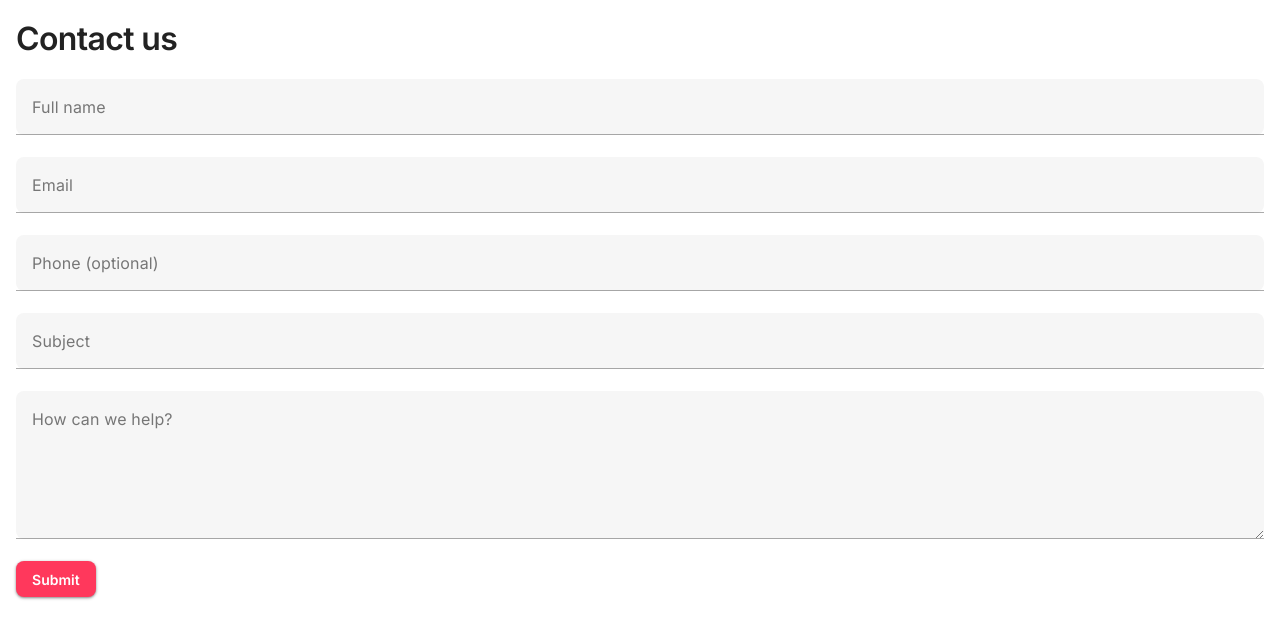
WidgetEmbedView › submits the form and shows the confirmation with the reference
This screenshot has width=1280, height=617.
Type "Jane Customer" into the field labelled "Full name" at (640, 107), box [16,79,1264,135]
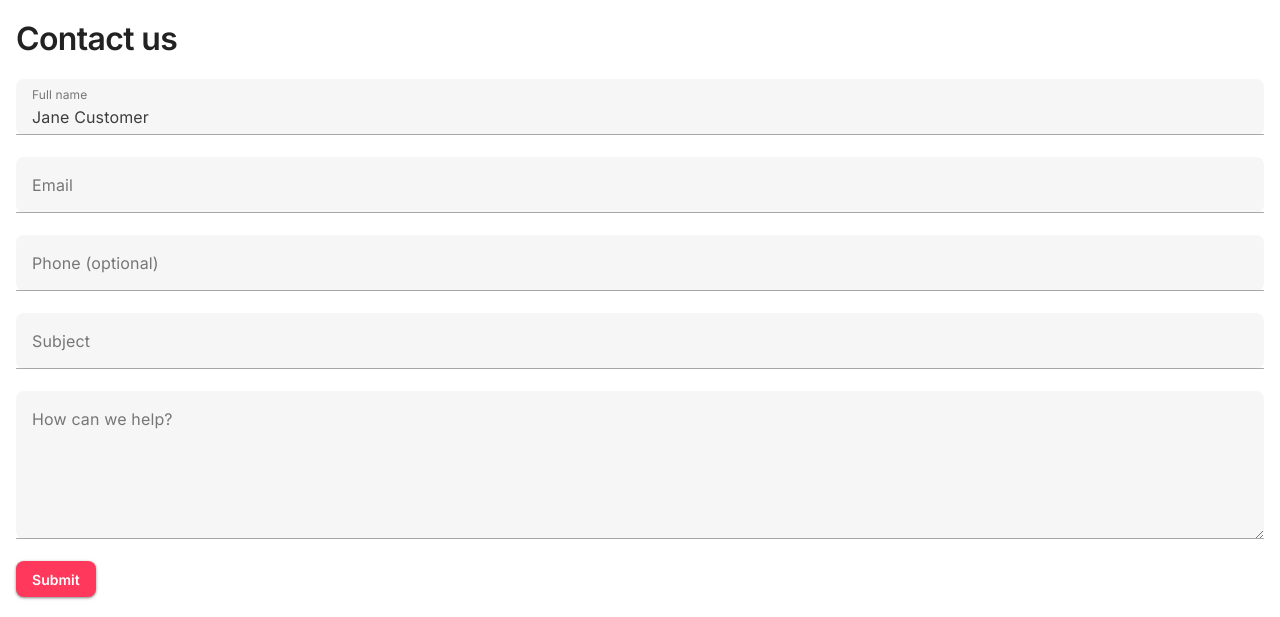
Type "jane@example.com" into the field labelled "Email" at (640, 185), box [16,157,1264,213]
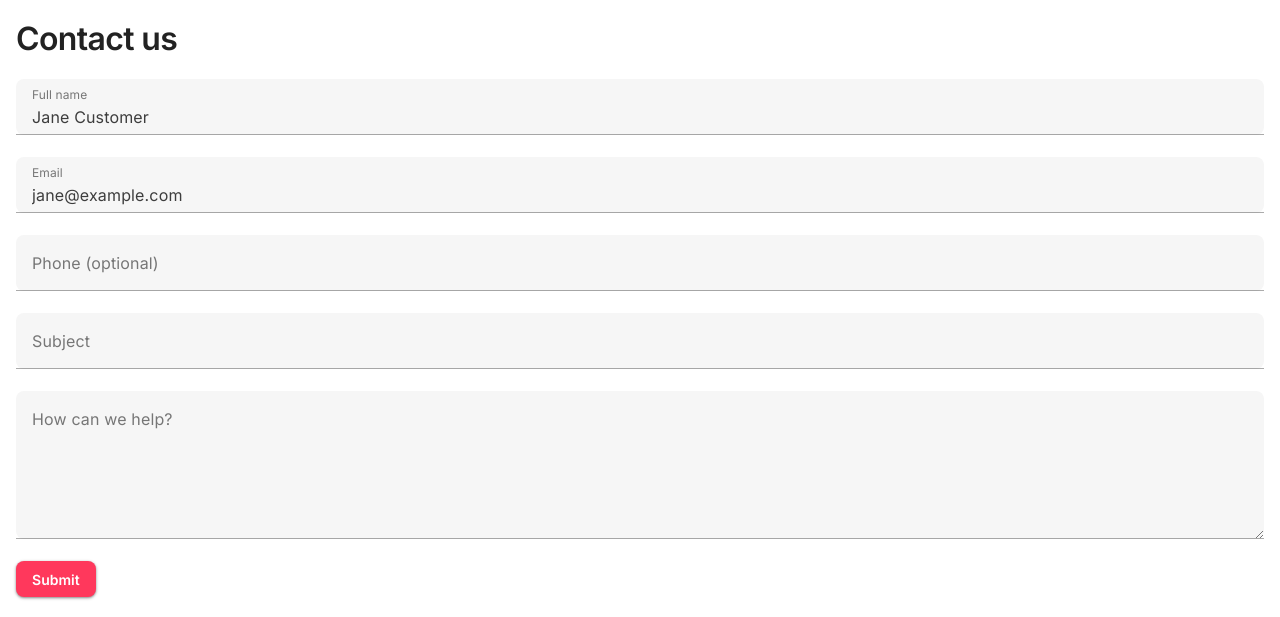
Type "Cannot log in" into the field labelled "Subject" at (640, 341), box [16,313,1264,369]
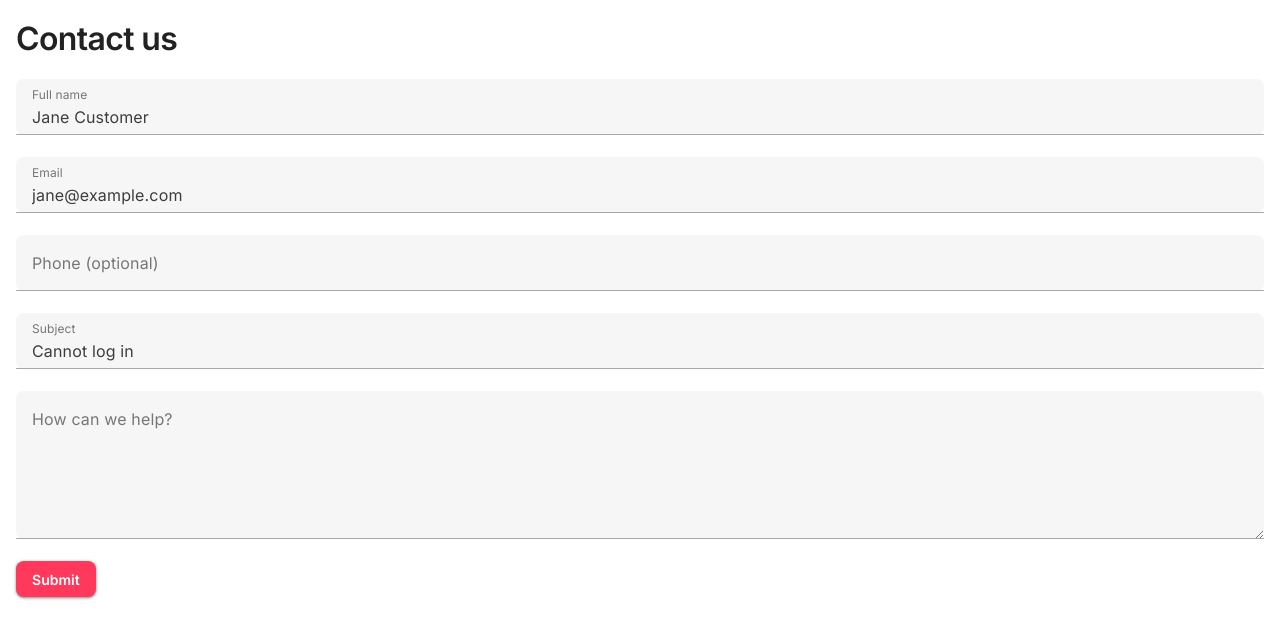
Type "Getting an error" into the text box labelled "How can we help?" at (640, 465), box [16,391,1264,539]
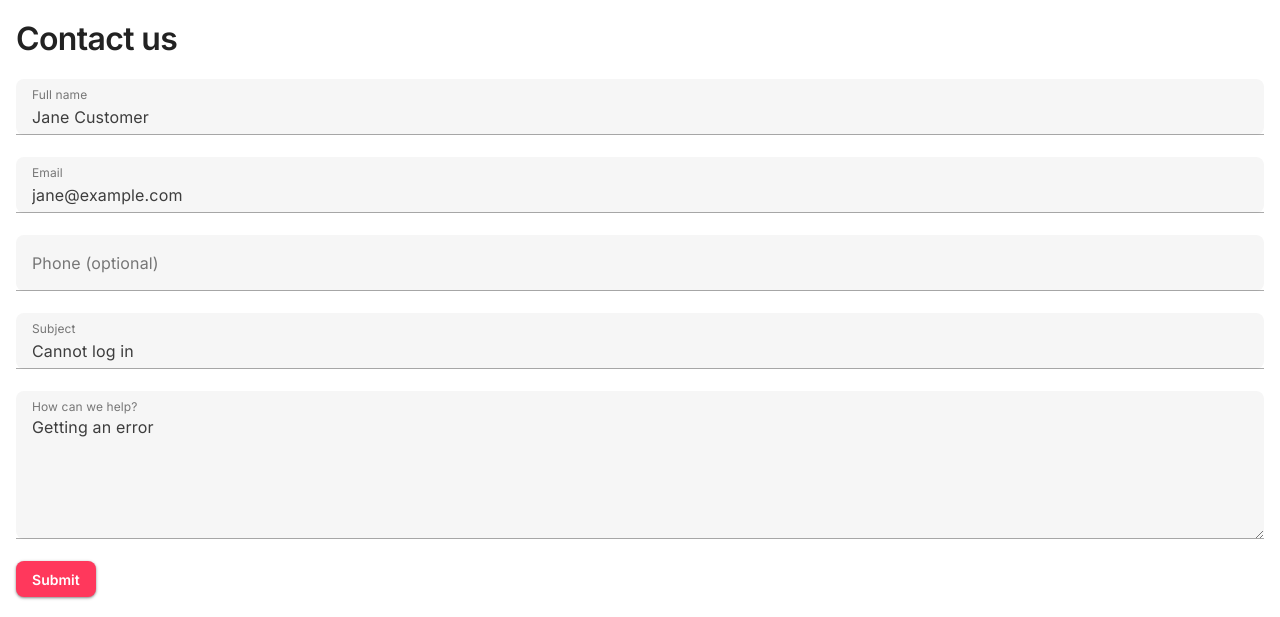
Submit the form
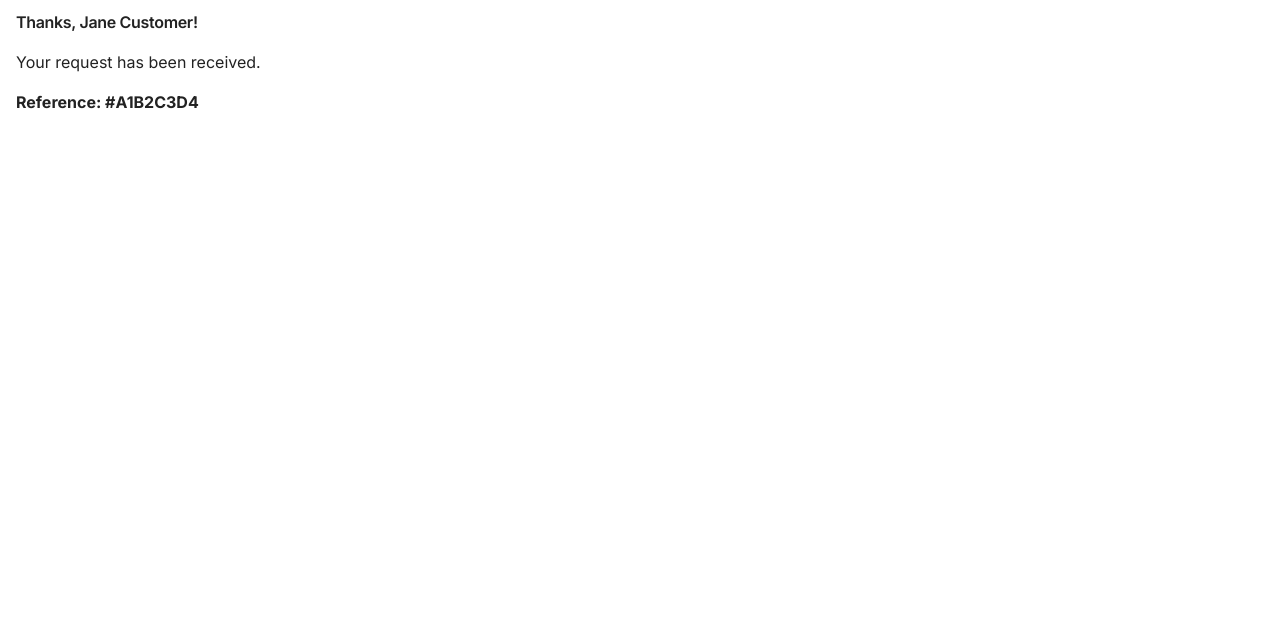
Expected: the element with test id "widget-confirmation" shows "A1B2C3D4", [16,92,199,112]
